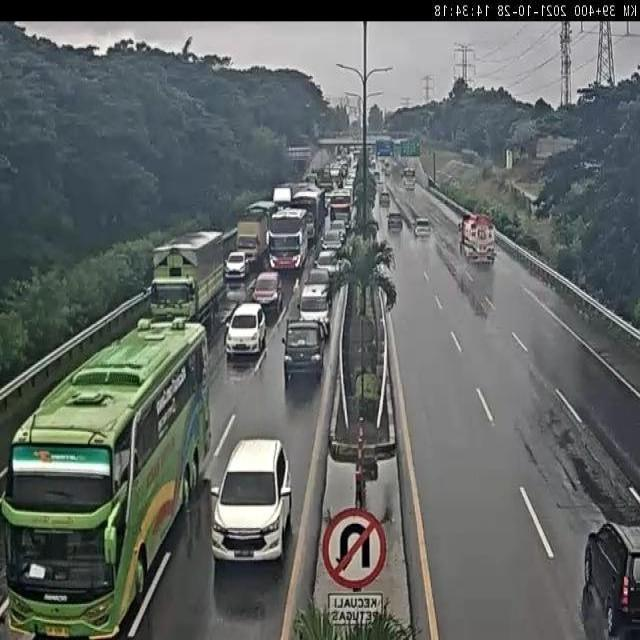Bus: (264, 207, 310, 270), (327, 186, 353, 232), (401, 167, 416, 192)
Car: (210, 436, 293, 562), (583, 517, 640, 640), (224, 303, 267, 357), (296, 283, 333, 337), (250, 270, 284, 315), (298, 268, 335, 306), (224, 251, 252, 283), (314, 248, 342, 278), (322, 226, 346, 254), (414, 217, 431, 238), (387, 213, 403, 233), (379, 191, 390, 208), (373, 168, 381, 184), (384, 161, 392, 175)
Truck: (0, 316, 213, 640), (148, 230, 226, 338), (282, 317, 326, 383), (457, 209, 498, 266), (291, 186, 327, 246), (235, 213, 269, 269), (271, 185, 296, 206), (244, 200, 276, 214)
